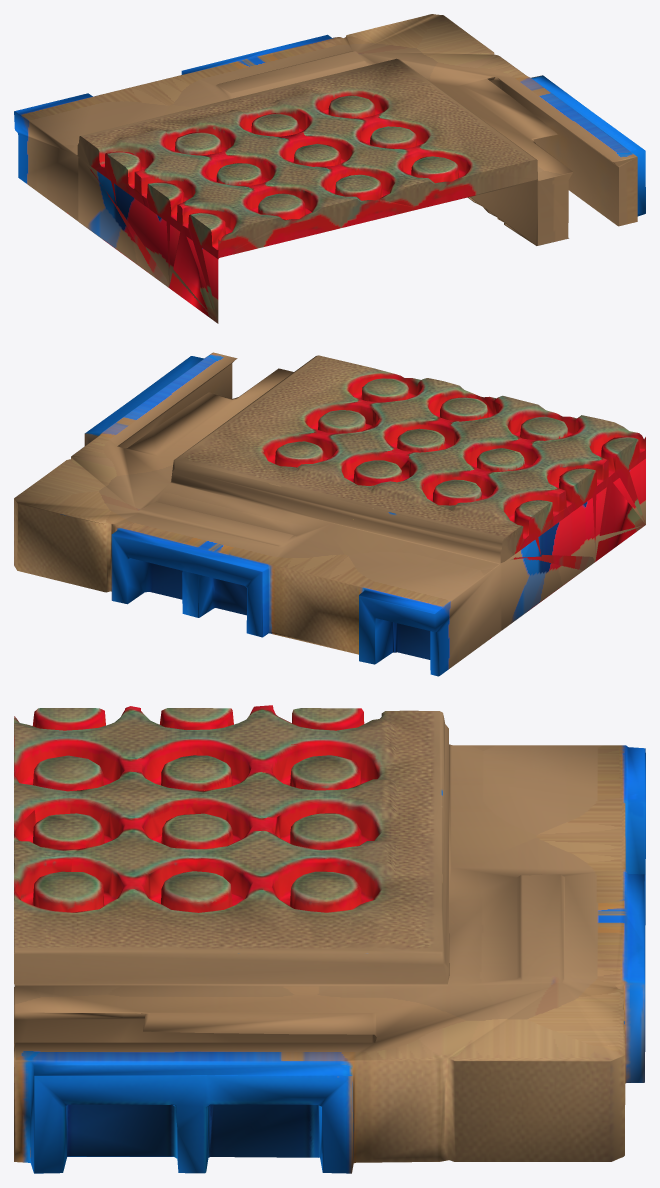
File: 12-roof-back-right.fbx
The picture shows the model from 3 angles, top to bottom: view 1: azimuth 30°, elevation 25°; view 2: azimuth 150°, elevation 25°; view 3: azimuth 270°, elevation 25°; orthographic projection. The views are drawn at different scales.
Visible parts, largest first — view 1: roof-back-right; view 2: roof-back-right; view 3: roof-back-right.
Part boxes in pixels (x1,y1,x2,y2): roof-back-right: (14,14,645,323); roof-back-right: (14,352,645,676); roof-back-right: (14,705,645,1173).
Bounding box in the file's own units: 5222 × 1071 × 4258.
1 material, 1 textured.
